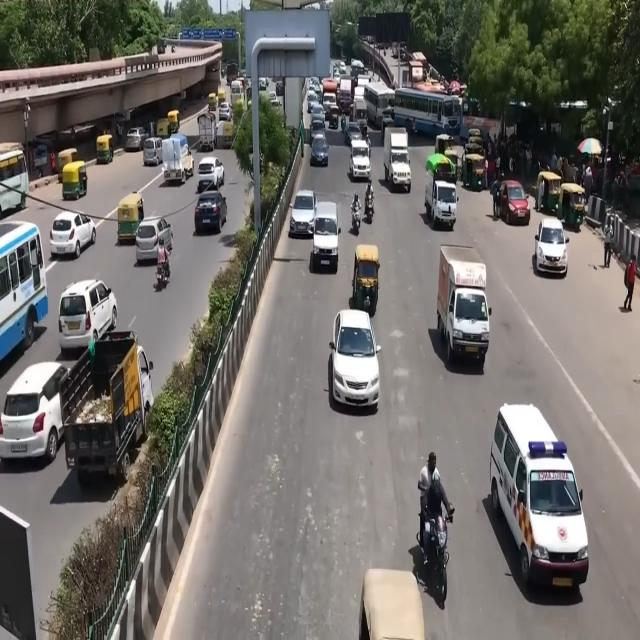auto: (344, 240, 388, 326), (112, 192, 146, 252), (559, 182, 587, 230), (536, 170, 562, 218), (62, 160, 88, 200), (57, 148, 79, 183), (96, 134, 114, 165), (216, 119, 234, 149), (156, 117, 171, 139), (168, 110, 180, 134), (208, 92, 217, 111), (217, 89, 226, 108)
bike-auto: (150, 232, 173, 302), (352, 187, 373, 235), (361, 181, 379, 234), (350, 187, 362, 243), (157, 238, 170, 282)
